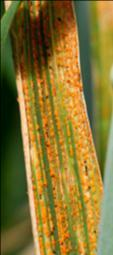Wheat: (25, 87, 81, 156), (30, 162, 97, 216), (19, 28, 75, 82), (43, 223, 88, 248)
